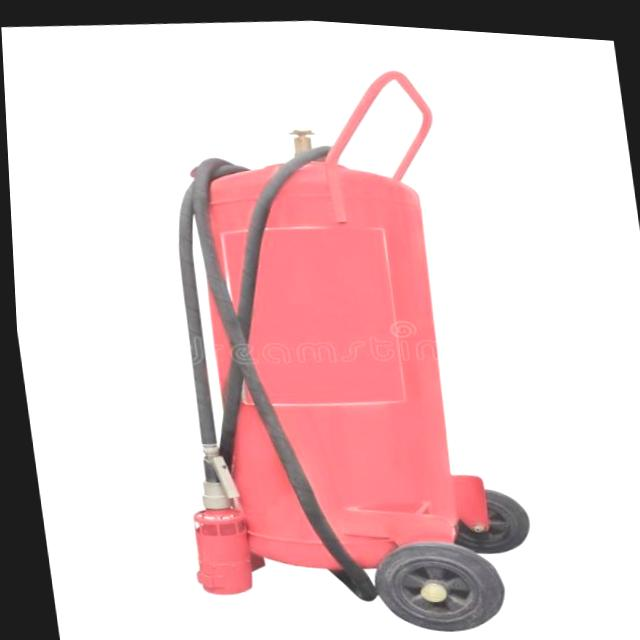FireExtinguisher: (107, 99, 482, 622)
